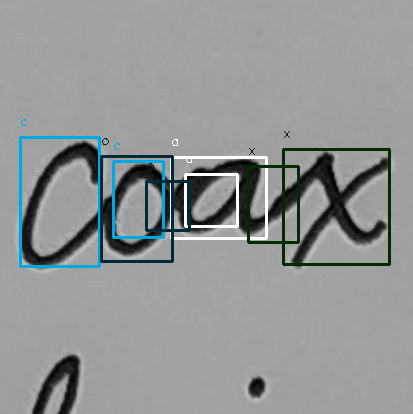a: (178, 153, 267, 244)
c: (18, 135, 107, 274)
o: (99, 159, 177, 259)
x: (282, 145, 395, 272)
